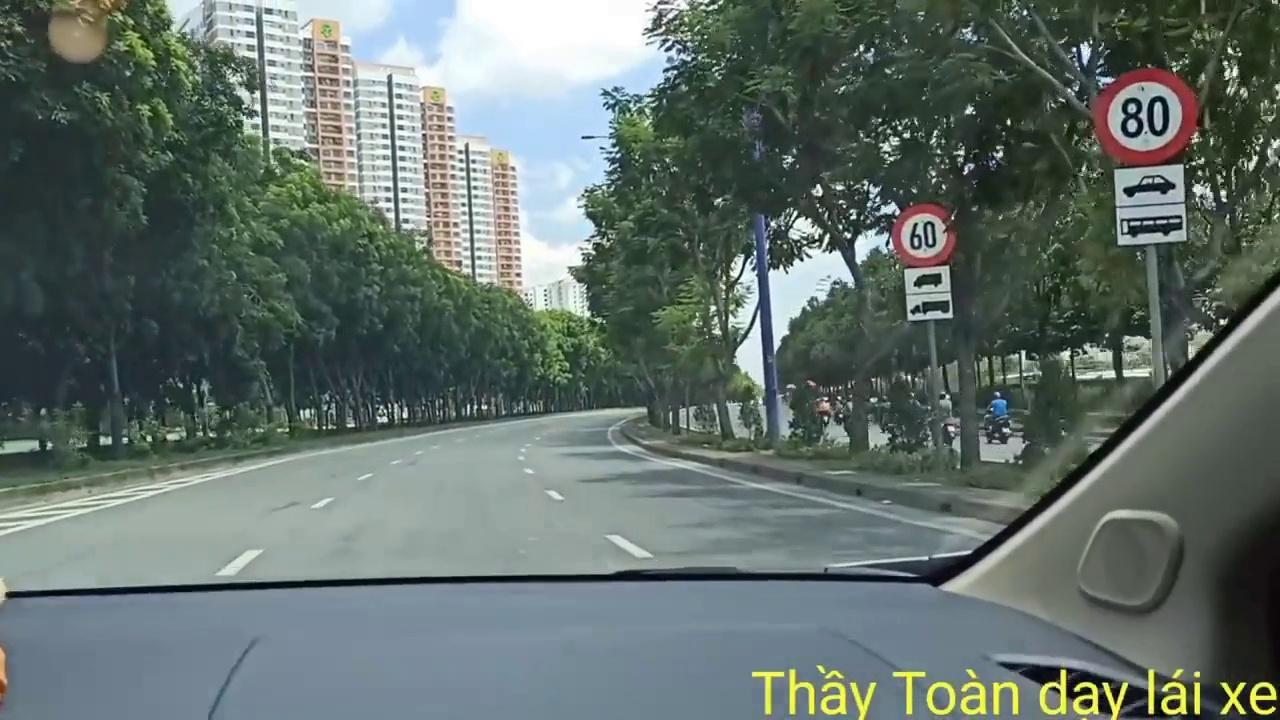Biển phụ: (1111, 164, 1191, 245), (900, 266, 953, 323)
GIơi hạn tốc độ 60Km/h: (889, 201, 960, 267)
Giới hạn tốc độ 80Km/h: (1089, 62, 1200, 166)
